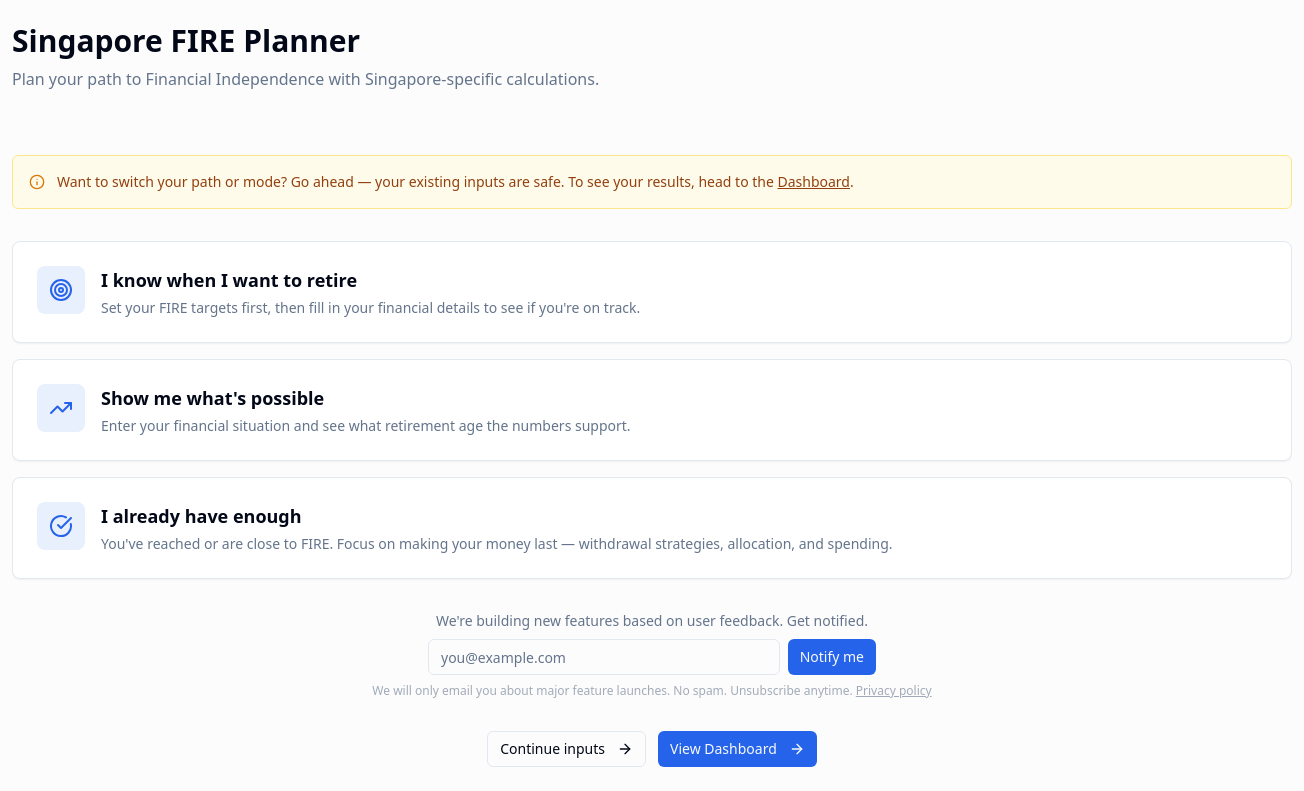
Test: StartPage › goal-first Continue button is disabled when retirement age <= current age
Click the text "I know when I want to retire" at [229, 280], box [101,268,357,292]
(page scrolled)
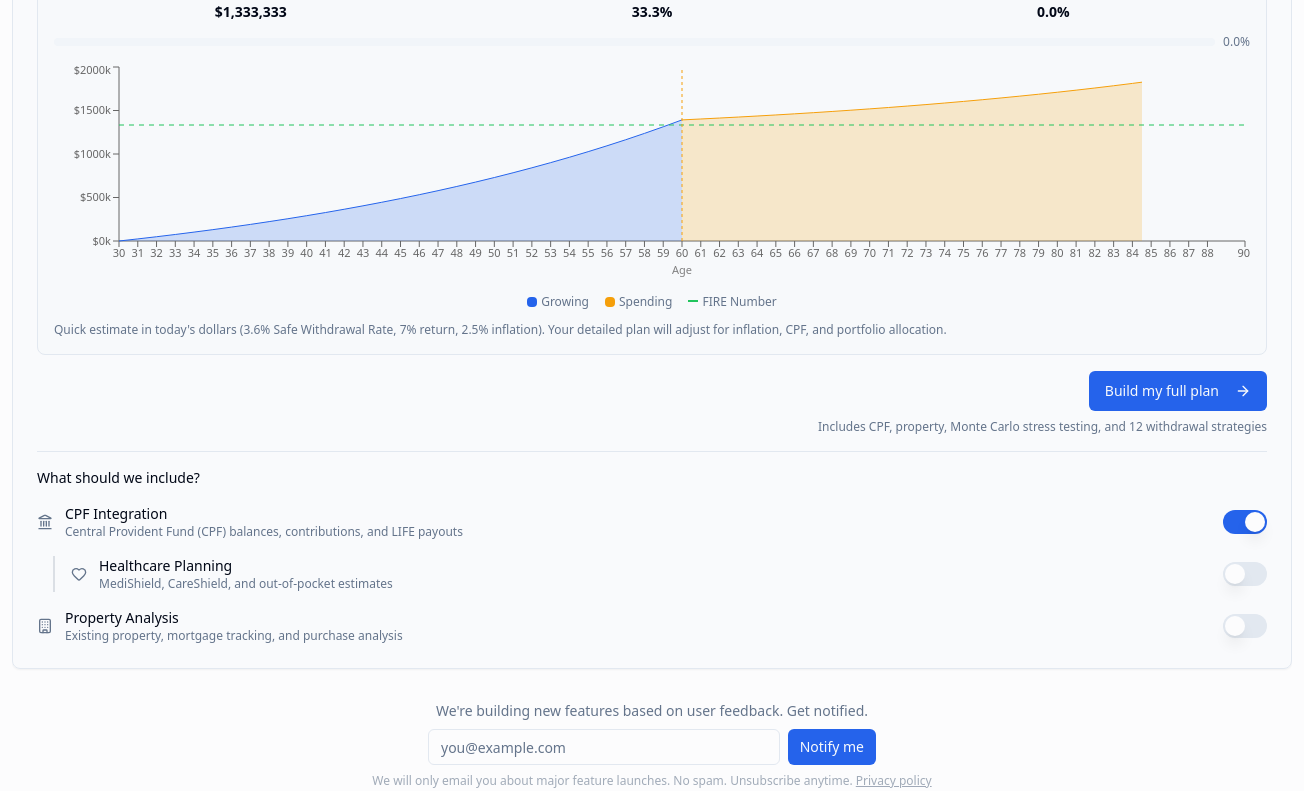
Result: the button "Build my full plan" is enabled at [1089,371,1267,411]
